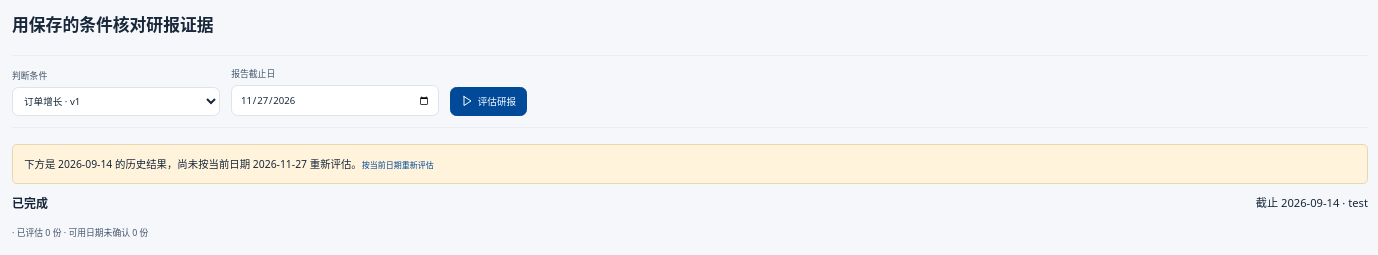
keeps old report results labelled as history until the newly selected date is evaluated
Check: the text "下方是 2026-09-14 的历史结果，尚未按当前日期 2026-11-27 重新评估。 按当前日期重新评估" is shown, box [12, 144, 1368, 184]
Type "2026-09-28" into the date field labelled "报告截止日". click: (335, 101)
box: [231, 85, 439, 116]
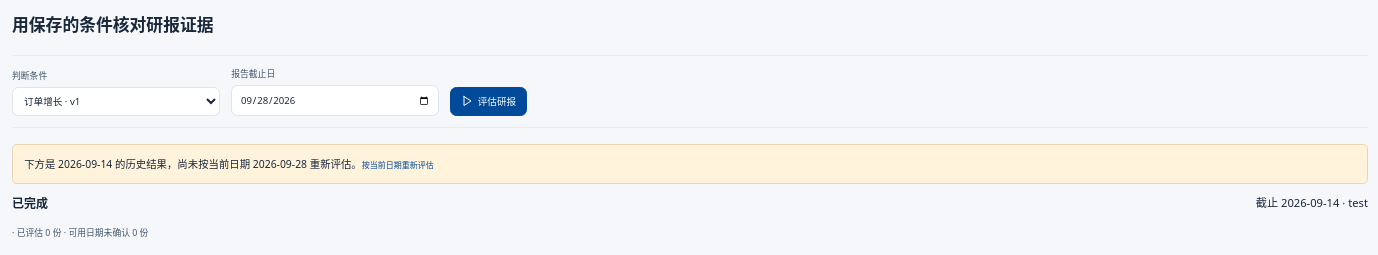
Check: the text "下方是 2026-09-14 的历史结果，尚未按当前日期 2026-09-28 重新评估。 按当前日期重新评估" is shown, box [12, 144, 1368, 184]
Click the button "按当前日期重新评估". click: (398, 165)
box: [362, 158, 434, 172]
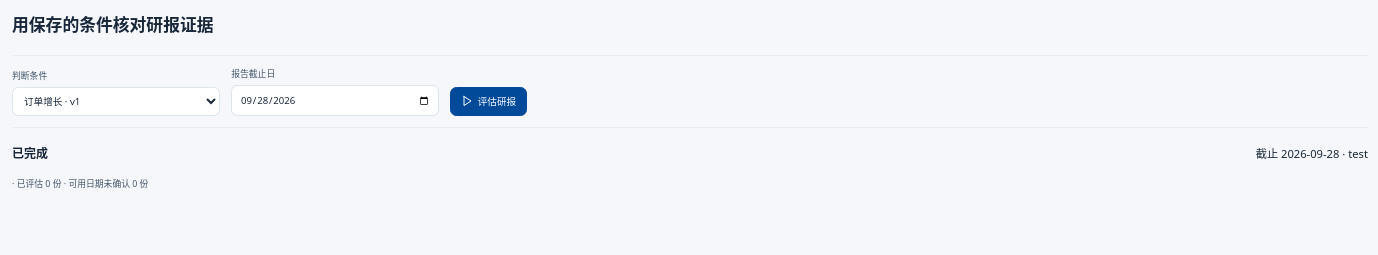
Check: the text "历史结果，尚未按当前日期" is gone
